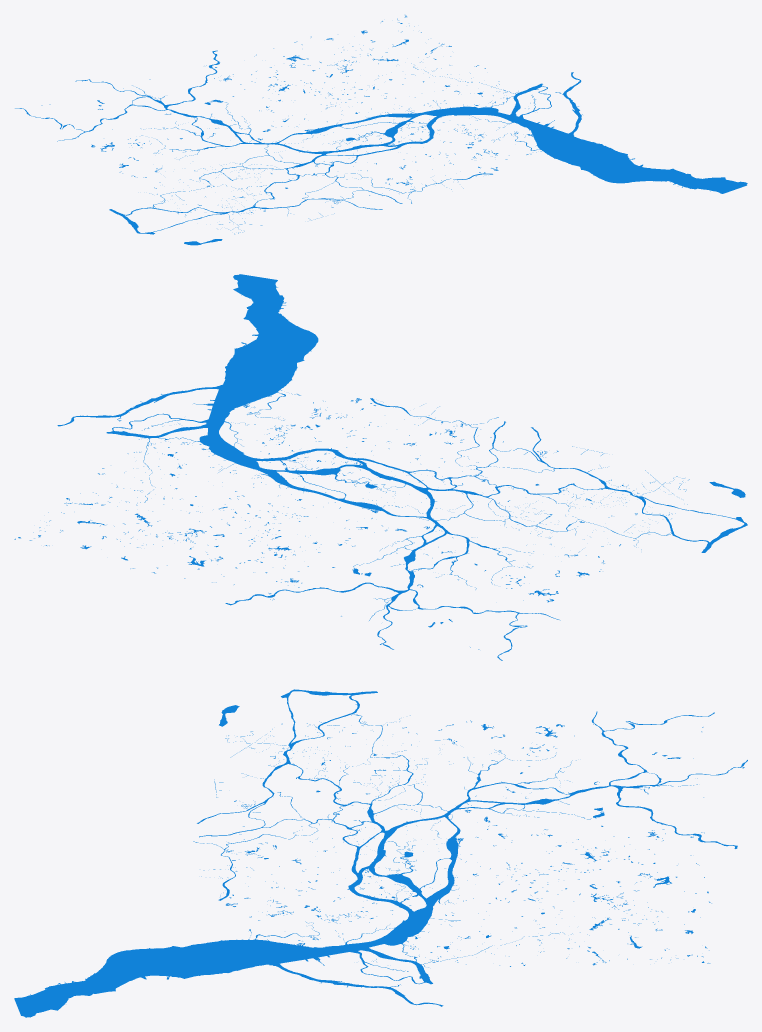
The model's file is water.glb.
The picture shows the model from 3 angles, top to bottom: view 1: azimuth 30°, elevation 25°; view 2: azimuth 150°, elevation 25°; view 3: azimuth 270°, elevation 25°; orthographic projection. The views are drawn at different scales.
Visible parts, largest first — view 1: water; view 2: water; view 3: water.
Boxes of the visible parts, x1,y1,x2,y2 form: water: [15, 15, 747, 245]; water: [14, 274, 747, 660]; water: [14, 689, 747, 1017].
Bounding box in the file's own units: 76581 × 0 × 72374.
